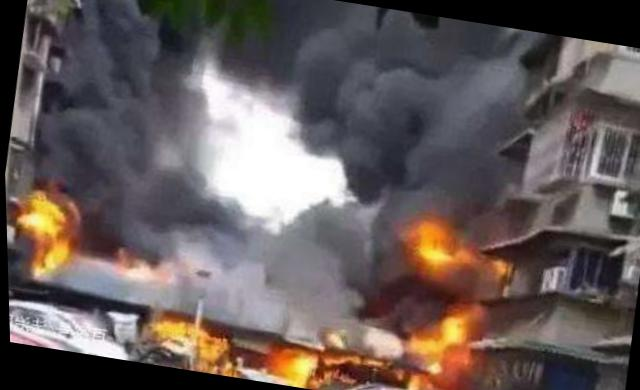fire: (380, 223, 514, 389), (4, 184, 85, 288), (263, 332, 376, 389), (142, 316, 240, 375)
